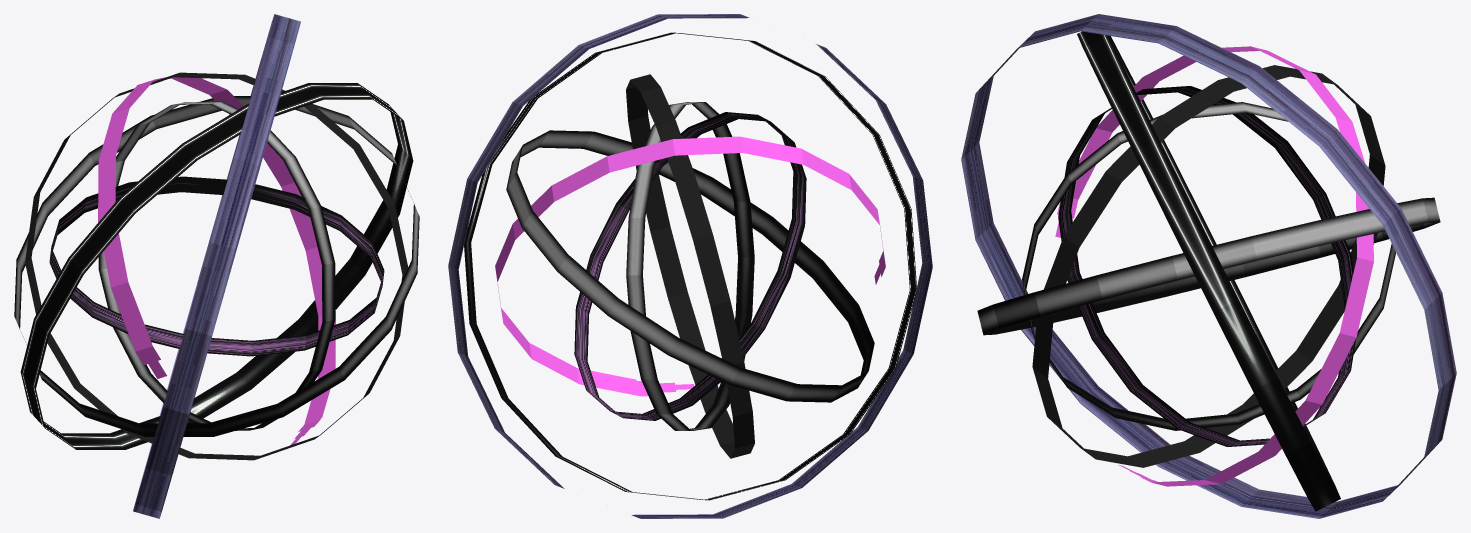
File: tx_priest_shuailao_hit_01.obj
3 views of the same model, side by side, from view 1: azimuth 30°, elevation 25°; view 2: azimuth 150°, elevation 25°; view 3: azimuth 270°, elevation 25° (orthographic). The views are drawn at different scales.
Parts seen in each view (by area): view 1: Cylinder03, Cylinder02, Cylinder08, Cylinder04, Cylinder06, Cylinder07, Cylinder05; view 2: Cylinder08, Cylinder05, Cylinder02, Cylinder04, Cylinder07, Cylinder06, Cylinder03; view 3: Cylinder02, Cylinder03, Cylinder08, Cylinder05, Cylinder04, Cylinder06, Cylinder07.
Boxes of the visible parts, box(x1,y1,x2,y2) form: Cylinder03: box(20, 83, 413, 449); Cylinder02: box(133, 14, 300, 518); Cylinder08: box(14, 96, 419, 436); Cylinder04: box(98, 77, 335, 445); Cylinder06: box(49, 176, 384, 356); Cylinder07: box(98, 101, 335, 430); Cylinder05: box(25, 72, 408, 460); Cylinder08: box(506, 130, 874, 402); Cylinder05: box(626, 74, 754, 458); Cylinder02: box(448, 14, 932, 518); Cylinder04: box(495, 136, 885, 396); Cylinder07: box(626, 102, 754, 430); Cylinder06: box(574, 112, 806, 420); Cylinder03: box(464, 32, 916, 500); Cylinder02: box(961, 14, 1456, 518); Cylinder03: box(1077, 31, 1340, 511); Cylinder08: box(977, 197, 1440, 335); Cylinder05: box(1032, 65, 1385, 467); Cylinder04: box(1055, 46, 1373, 486); Cylinder06: box(1058, 86, 1355, 446); Cylinder07: box(1022, 102, 1395, 430).
Bounding box in the file's own units: 26.99 × 29.46 × 25.38.
6 materials, 6 textured.
